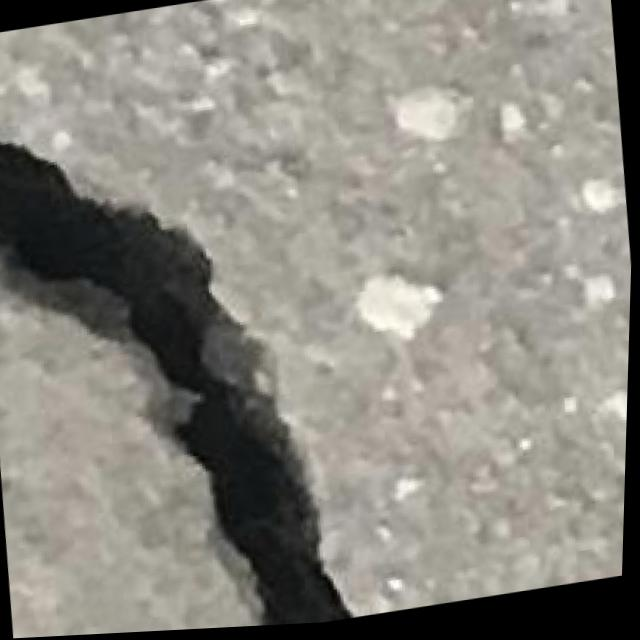Crack: (0, 66, 369, 640)
